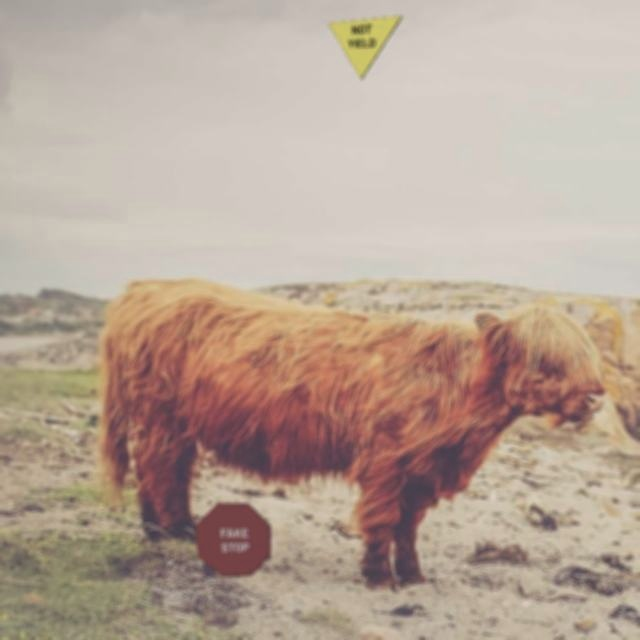FAKE_STOP: (195, 502, 271, 577)
NOT_YIELD: (327, 15, 403, 80)
